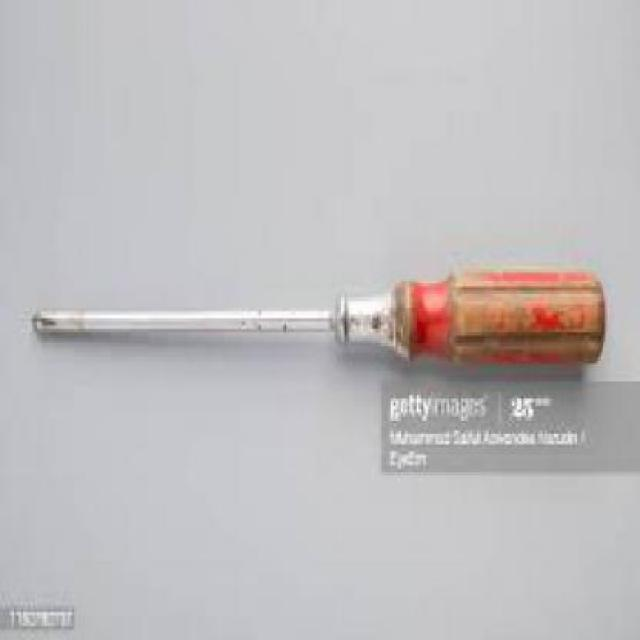screwdriver: (33, 276, 610, 372)
